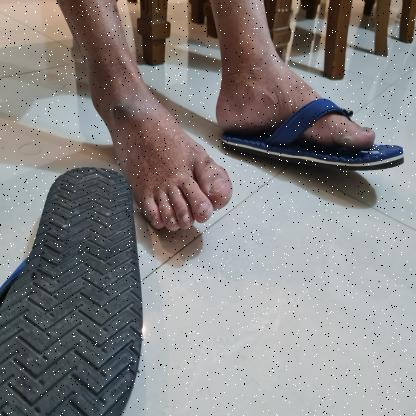leg: (52, 0, 235, 240), (207, 0, 409, 179)
